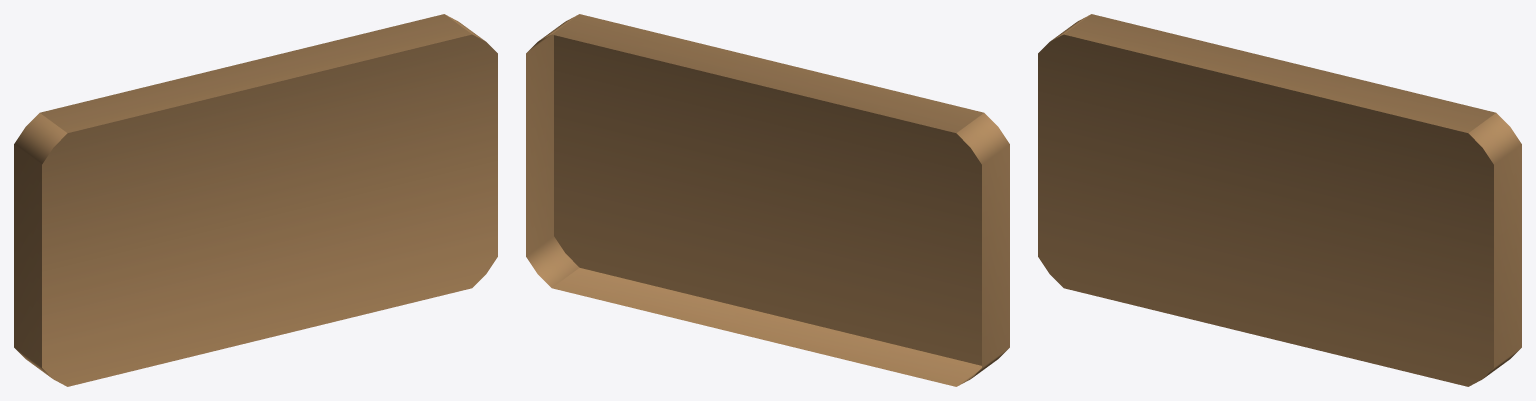
Rendered from base_puzzle_allarme_20x10.fbx.
The picture shows the model from 3 angles, left to right: view 1: azimuth 30°, elevation 25°; view 2: azimuth 150°, elevation 25°; view 3: azimuth 330°, elevation 25°; orthographic projection.
Visible parts, largest first — view 1: base_puzzle_allarme_20x10; view 2: base_puzzle_allarme_20x10; view 3: base_puzzle_allarme_20x10.
Part boxes in pixels (x1=…): base_puzzle_allarme_20x10: x1=14, y1=14, x2=497, y2=386; base_puzzle_allarme_20x10: x1=526, y1=14, x2=1009, y2=386; base_puzzle_allarme_20x10: x1=1038, y1=14, x2=1521, y2=386.
Size of the model in its own units: 18.81 by 10 by 2.
